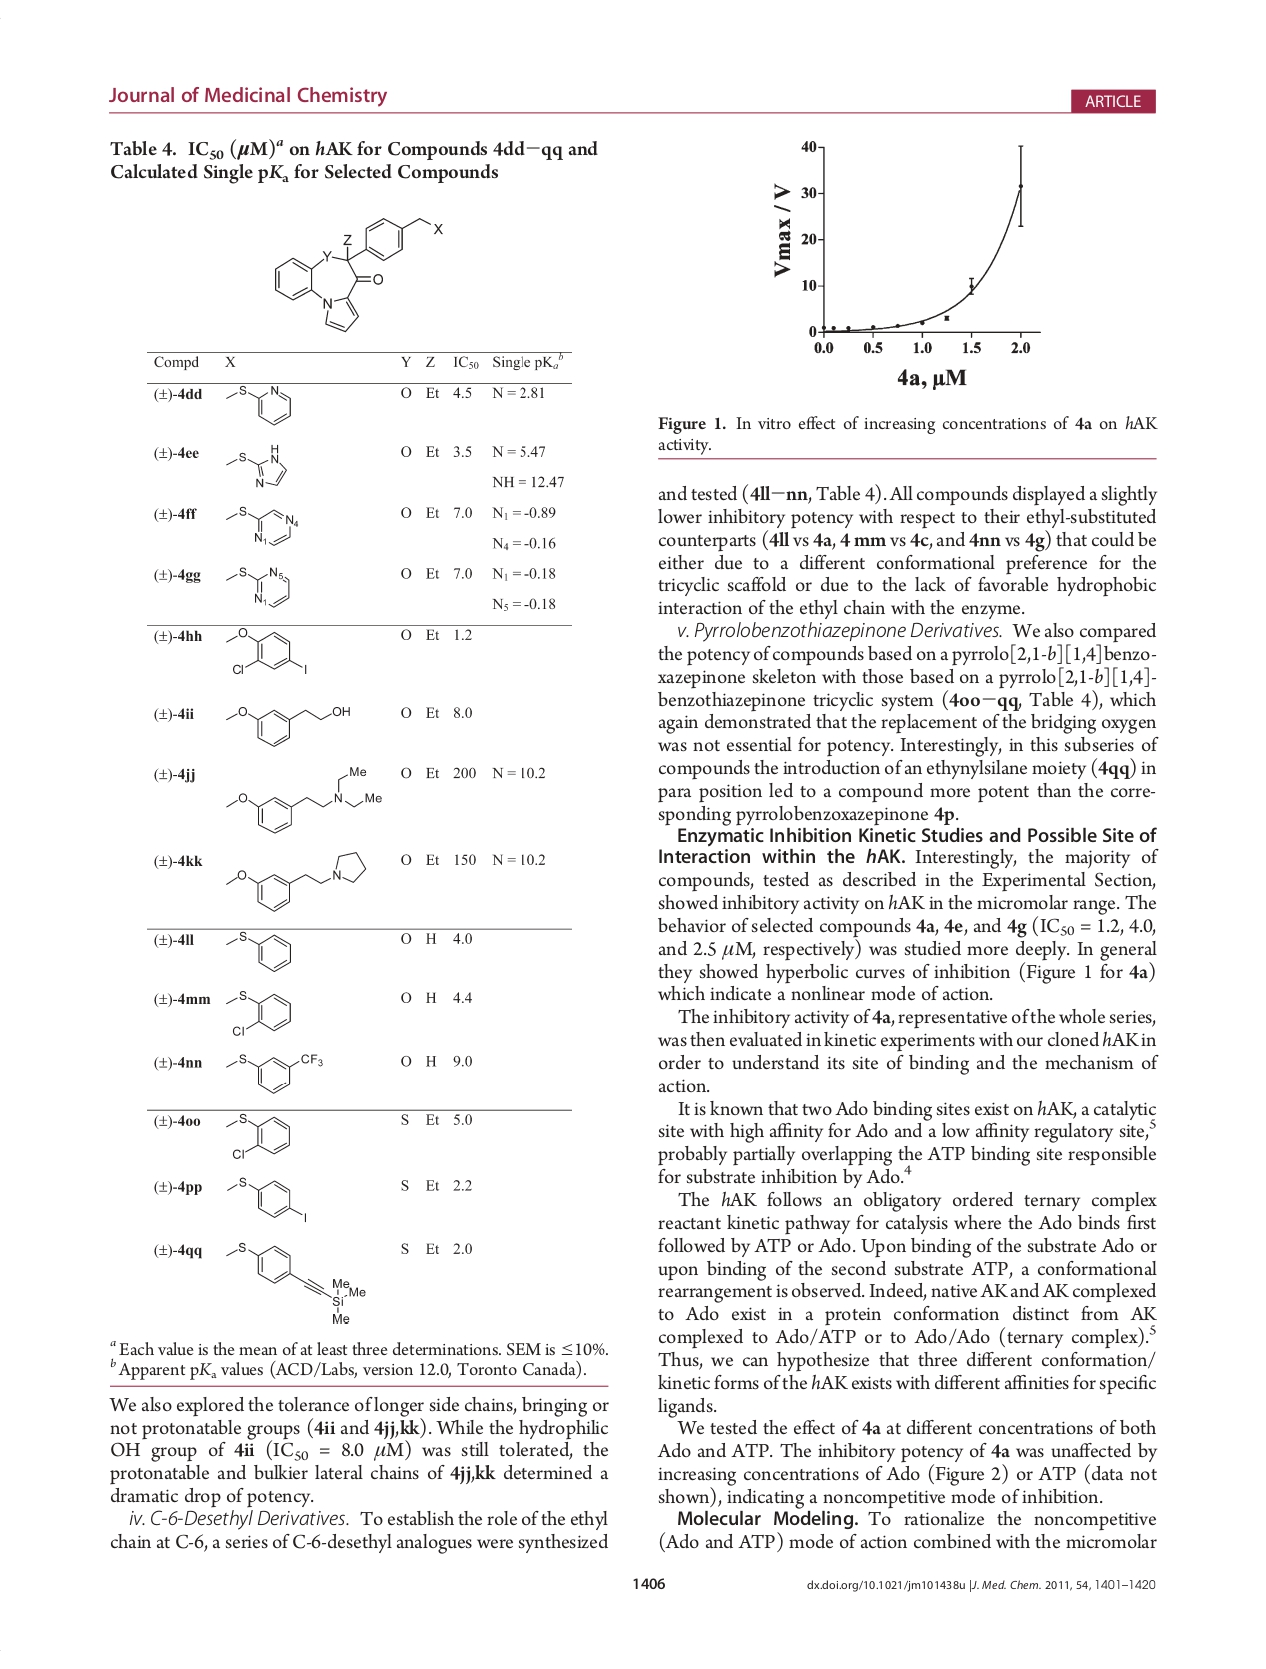exist_molecular: (270, 210, 445, 335), (222, 1238, 372, 1327), (219, 762, 386, 835), (222, 847, 368, 914), (218, 701, 355, 746), (218, 1047, 327, 1096), (222, 625, 310, 682), (219, 983, 297, 1040), (225, 1174, 310, 1223), (219, 501, 302, 552), (217, 563, 297, 610), (222, 1110, 293, 1160), (218, 930, 297, 973), (223, 439, 290, 489), (219, 382, 294, 426)
